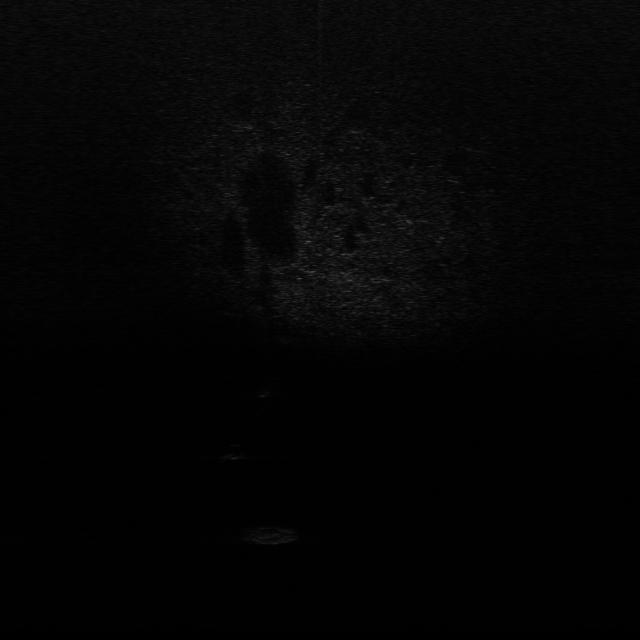ball: (218, 442, 248, 462)
circle cage: (252, 523, 298, 547)
human body: (254, 375, 280, 416)
